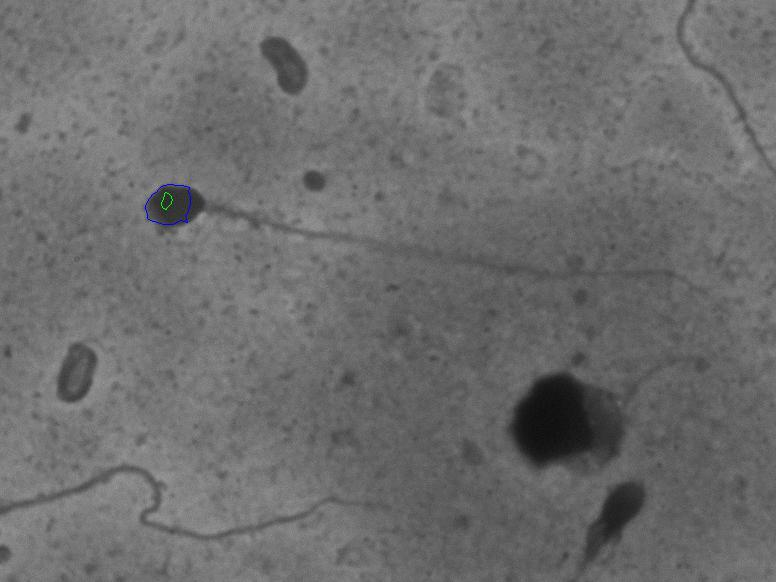Abnormal: (119, 145, 701, 331)
